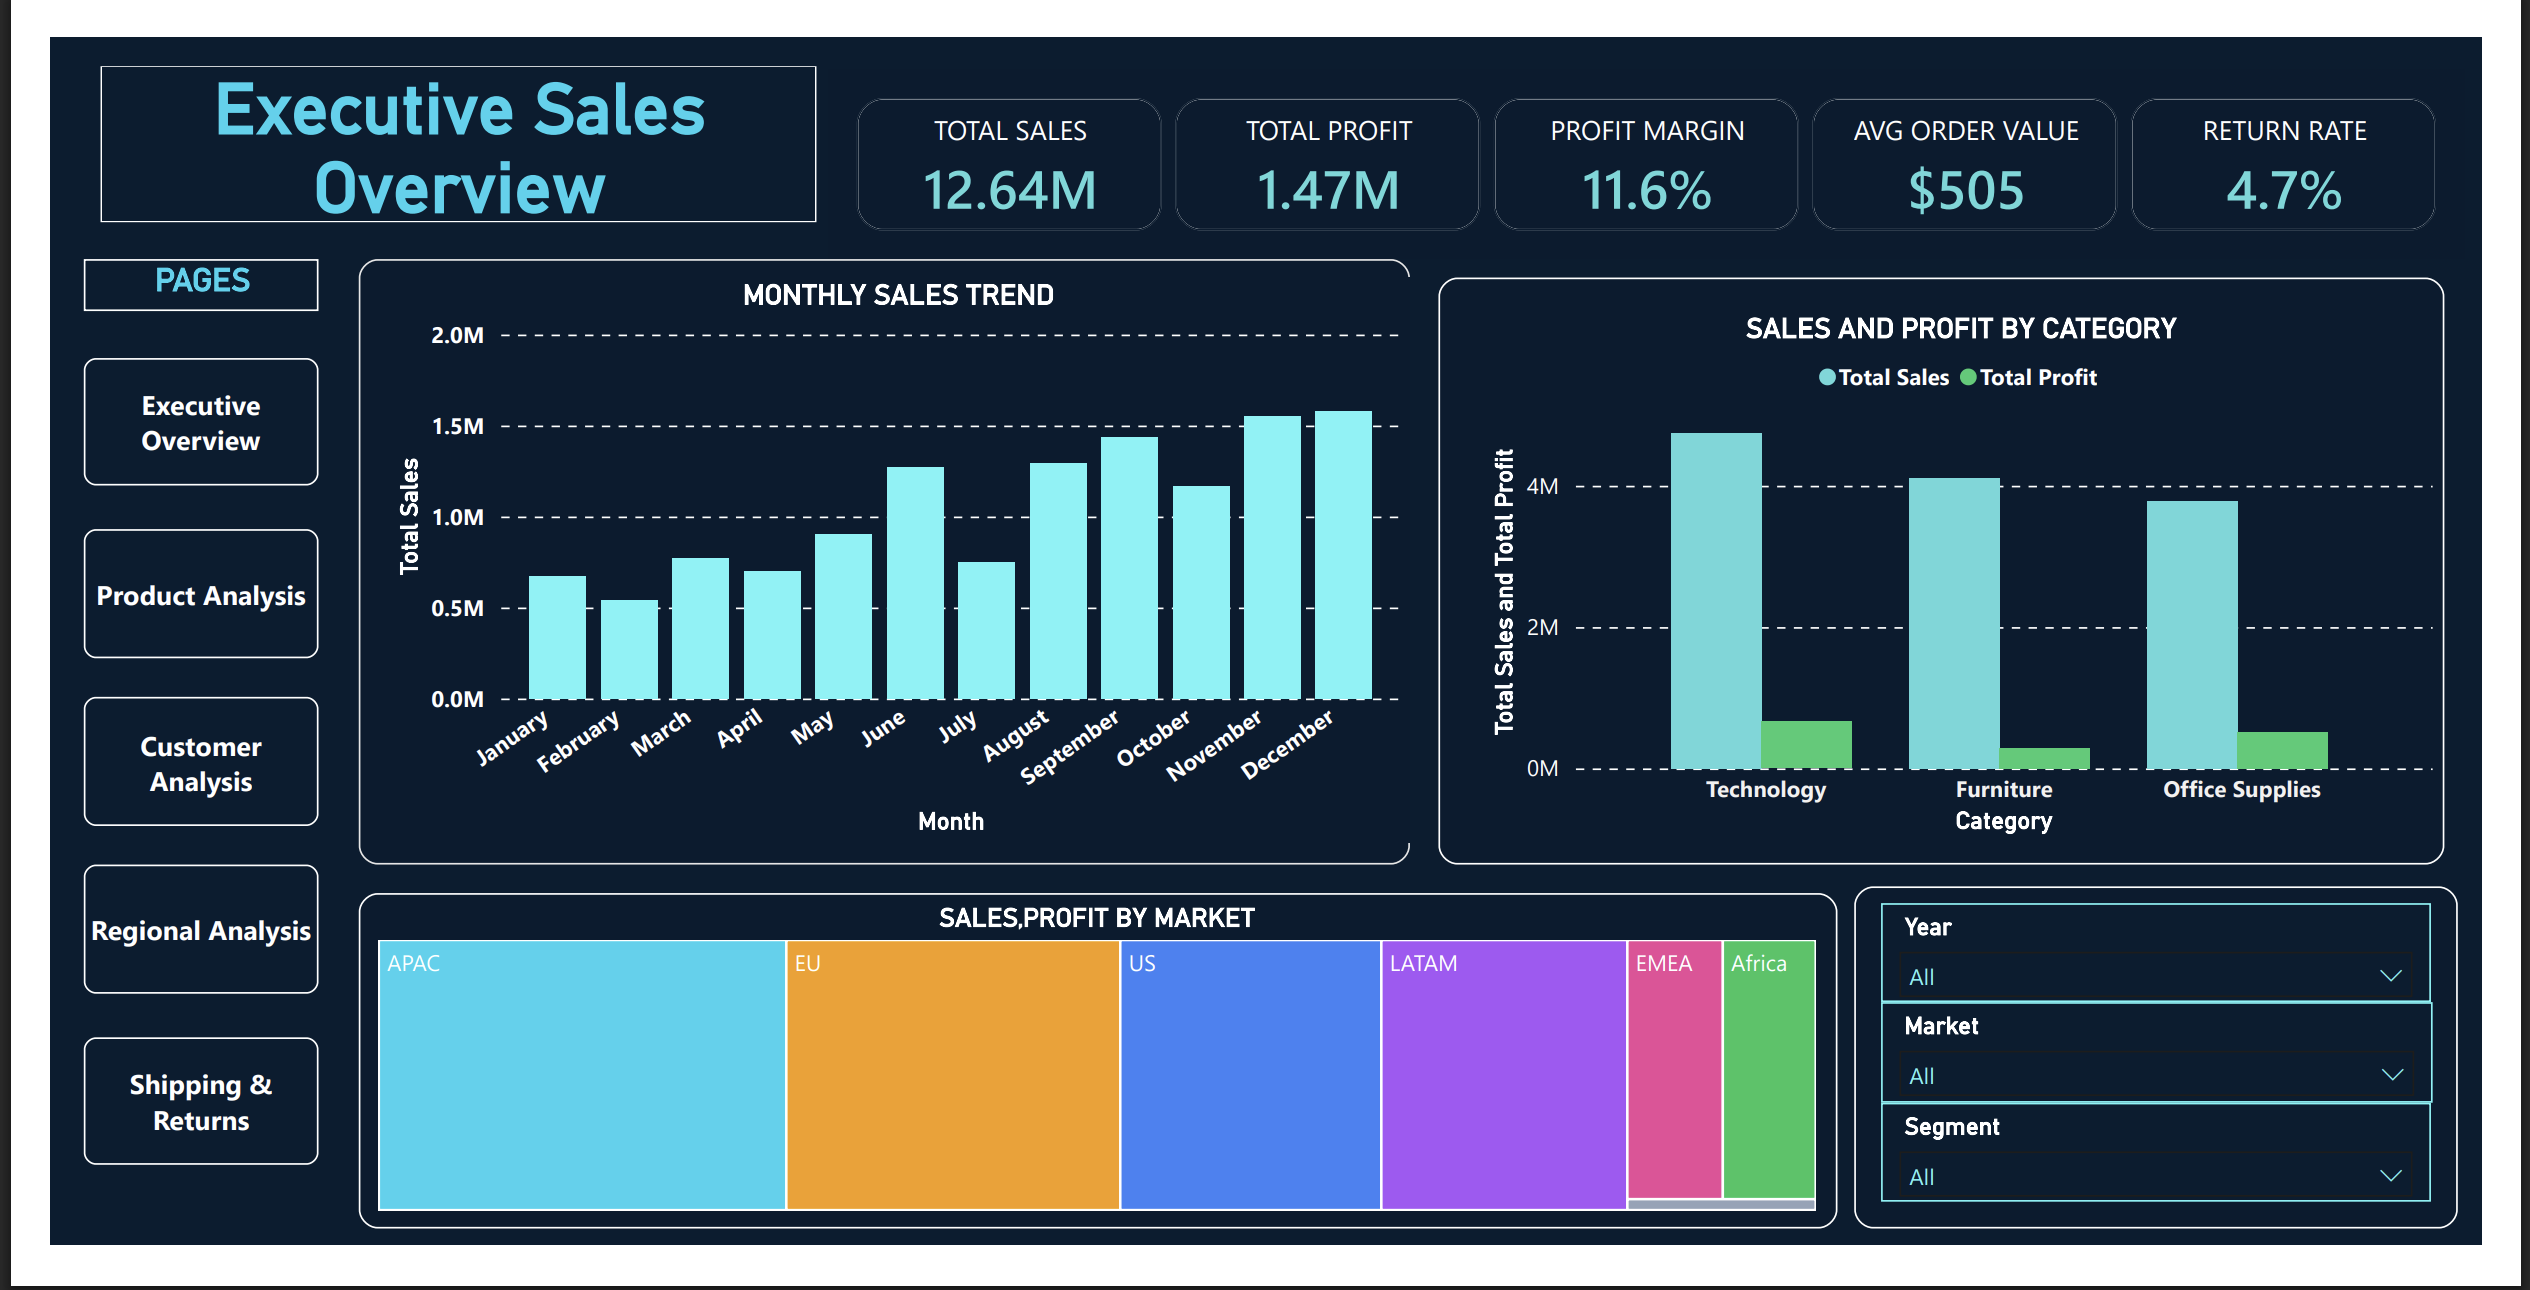

The dashboard page shown, as its layout file describes it:
{"tool":"powerbi","page":{"name":"Page 1","canvas":[1450,720],"ordinal":0},"visuals":[{"type":"shape","box":[183.6,131.6,627.5,361.4],"z":0},{"type":"columnChart","title":"MONTHLY SALES TREND","fields":{"Y":["Sum(Orders.Sales)"],"Category":["Orders.Order Date.Variation.Date Hierarchy.Month"]},"box":[201,143.1,610.1,336.9],"z":1000},{"type":"shape","box":[828.4,143.1,600,349.9],"z":2000},{"type":"clusteredColumnChart","title":"SALES AND PROFIT BY CATEGORY","fields":{"Category":["Orders.Category"],"Y":["Sum(Orders.Sales)","Sum(Orders.Profit)"]},"box":[854.5,163.4,571.1,316.6],"z":3000},{"type":"shape","box":[1075.7,506,360,203.9],"z":4000},{"type":"slicer","fields":{"Values":["Orders.Market"]},"box":[569.6,611.6,141.7,72.3],"z":5000},{"type":"slicer","fields":{"Values":["Orders.Segment"]},"box":[617.3,545.1,135.9,72.3],"z":6000},{"type":"shape","box":[183.6,510.4,881.9,199.5],"z":7000},{"type":"treemap","title":"SALES,PROFIT BY MARKET","fields":{"Group":["Orders.Market"],"Values":["Sum(Orders.Sales)"]},"box":[190.8,514.7,867.5,189.4],"z":8000},{"type":"slicer","fields":{"Values":["Orders.Order Date.Variation.Date Hierarchy.Year"]},"box":[1091.6,516.1,328.2,59.3],"z":9000},{"type":"slicer","fields":{"Values":["Orders.Market"]},"box":[1091.6,575.4,329.6,59.3],"z":10000},{"type":"slicer","fields":{"Values":["Orders.Segment"]},"box":[1091.6,634.7,328.2,59.3],"z":11000},{"type":"cardVisual","fields":{"Data":["Sum(Orders.Sales)","Sum(Orders.Profit)","Orders.PROFIT MARGIN","Orders.AVG ORDER VALUE","Orders.Return Rate"]},"box":[464.1,18.8,975.9,112.8],"z":12000},{"type":"textbox","title":"Executive Sales Overview","box":[30.4,17.3,426.5,92.5],"z":13000},{"type":"actionButton","box":[20.2,190.8,140.2,76.6],"z":14000},{"type":"actionButton","box":[20.2,293.5,140.2,76.6],"z":15000},{"type":"actionButton","box":[20.2,393.3,140.2,76.6],"z":16000},{"type":"actionButton","box":[20.2,493,140.2,76.6],"z":17000},{"type":"actionButton","box":[20.2,595.7,140.2,76.6],"z":18000},{"type":"textbox","title":"PAGES","box":[20.2,131.6,140.2,31.8],"z":19000}]}

Visuals, with their boxes in screenshot pixels (x1, y1, x2, y2), scaled from the page's 1450x720 canvas onto the 2530x1290 screenshot:
shape: bbox=[320, 236, 1415, 883]
"MONTHLY SALES TREND" columnChart: bbox=[351, 256, 1415, 860]
shape: bbox=[1445, 256, 2492, 883]
"SALES AND PROFIT BY CATEGORY" clusteredColumnChart: bbox=[1491, 293, 2487, 860]
shape: bbox=[1877, 907, 2505, 1272]
slicer - Orders.Market: bbox=[994, 1096, 1241, 1225]
slicer - Orders.Segment: bbox=[1077, 977, 1314, 1106]
shape: bbox=[320, 914, 1859, 1272]
"SALES,PROFIT BY MARKET" treemap: bbox=[333, 922, 1847, 1262]
slicer - Orders.Order Date.Variation.Date Hierarchy.Year: bbox=[1905, 925, 2477, 1031]
slicer - Orders.Market: bbox=[1905, 1031, 2480, 1137]
slicer - Orders.Segment: bbox=[1905, 1137, 2477, 1243]
cardVisual - Sum(Orders.Sales) x Sum(Orders.Profit): bbox=[810, 34, 2513, 236]
"Executive Sales Overview" textbox: bbox=[53, 31, 797, 197]
actionButton: bbox=[35, 342, 280, 479]
actionButton: bbox=[35, 526, 280, 663]
actionButton: bbox=[35, 705, 280, 842]
actionButton: bbox=[35, 883, 280, 1021]
actionButton: bbox=[35, 1067, 280, 1205]
"PAGES" textbox: bbox=[35, 236, 280, 293]
